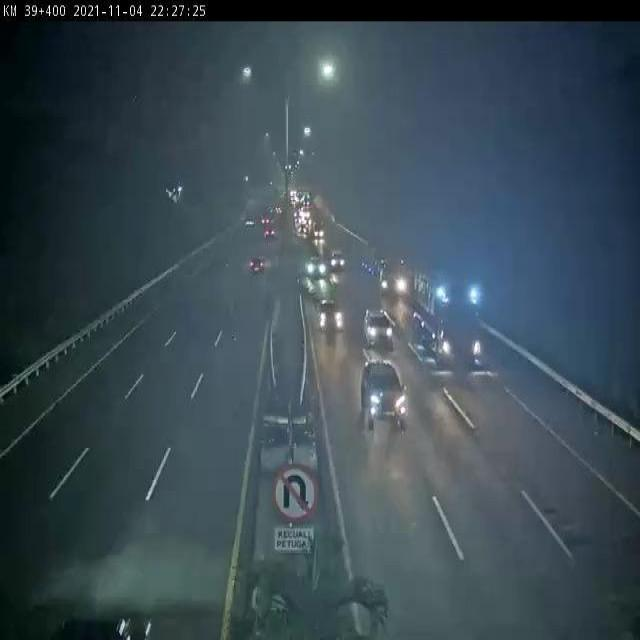car: (360, 360, 410, 433), (362, 307, 395, 348), (318, 300, 344, 331), (305, 252, 328, 279), (248, 256, 269, 279), (328, 248, 343, 269)
truck-l-: (412, 268, 484, 369)
truck-xl-: (363, 250, 409, 302)
